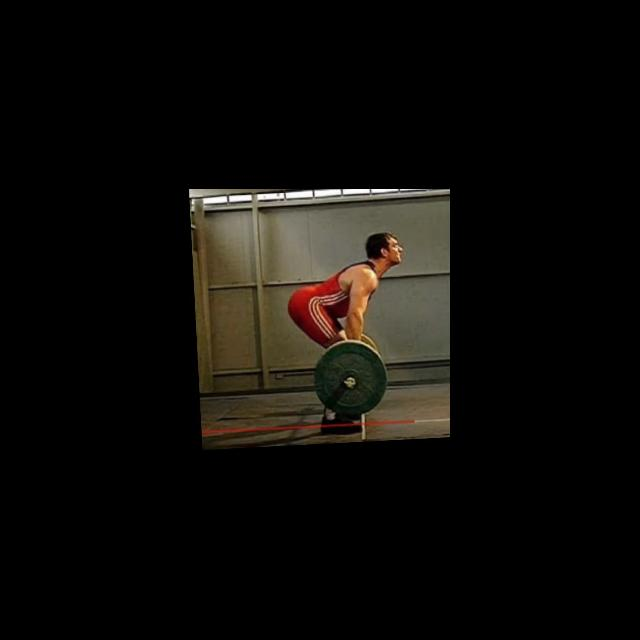barbell: (308, 338, 387, 420)
